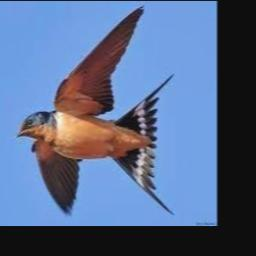Swallow: (12, 5, 174, 216)
